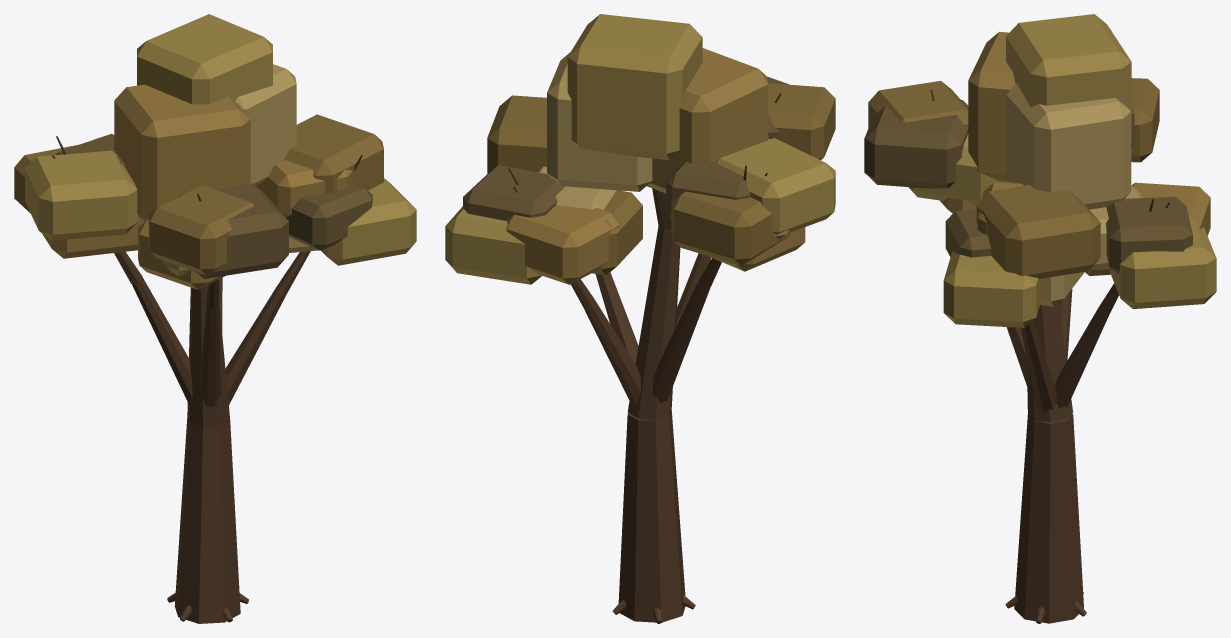
The model's file is apple_sapling_autumn.glb.
3 views of the same model, side by side, from view 1: azimuth 30°, elevation 25°; view 2: azimuth 150°, elevation 25°; view 3: azimuth 270°, elevation 25° (orthographic). The views are drawn at different scales.
Visible parts, largest first — view 1: apple_sapling_autumn; view 2: apple_sapling_autumn; view 3: apple_sapling_autumn.
Boxes of the visible parts, x1,y1,x2,y2 form: apple_sapling_autumn: (14, 14, 416, 623); apple_sapling_autumn: (445, 14, 835, 623); apple_sapling_autumn: (864, 14, 1216, 623).
Size of the model in its own units: 3.83 by 6 by 3.33.
